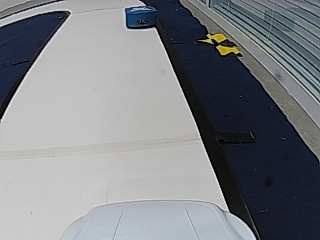prop: (126, 5, 157, 29)
